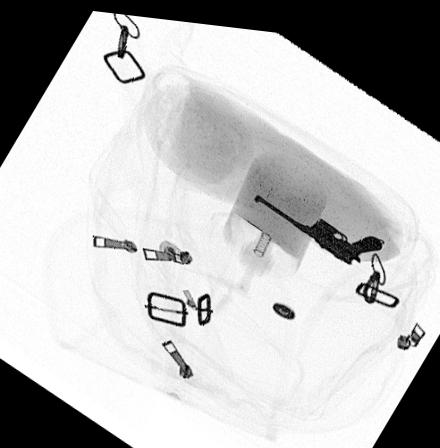Gun: (253, 187, 386, 257)
